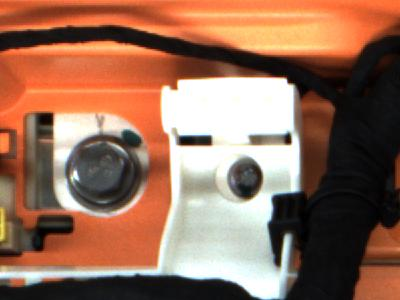nut_b: (60, 130, 143, 213)
